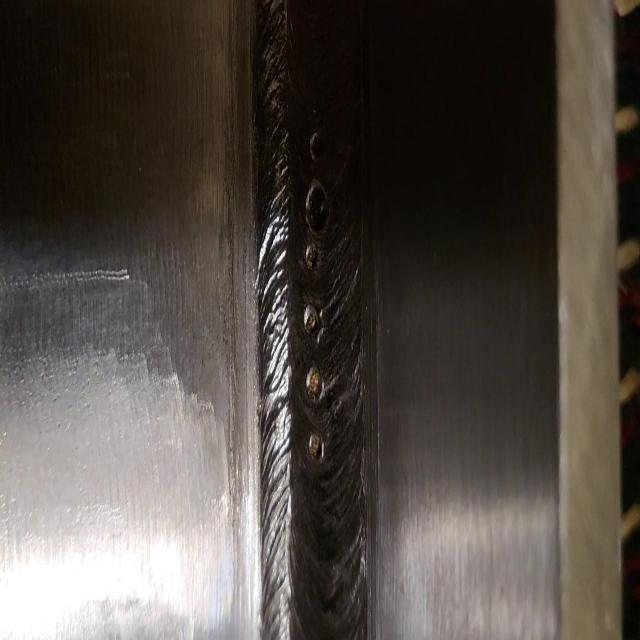Welding Line: (256, 7, 371, 640)
Workpiece: (2, 9, 622, 638)
porosity: (303, 126, 329, 462)
